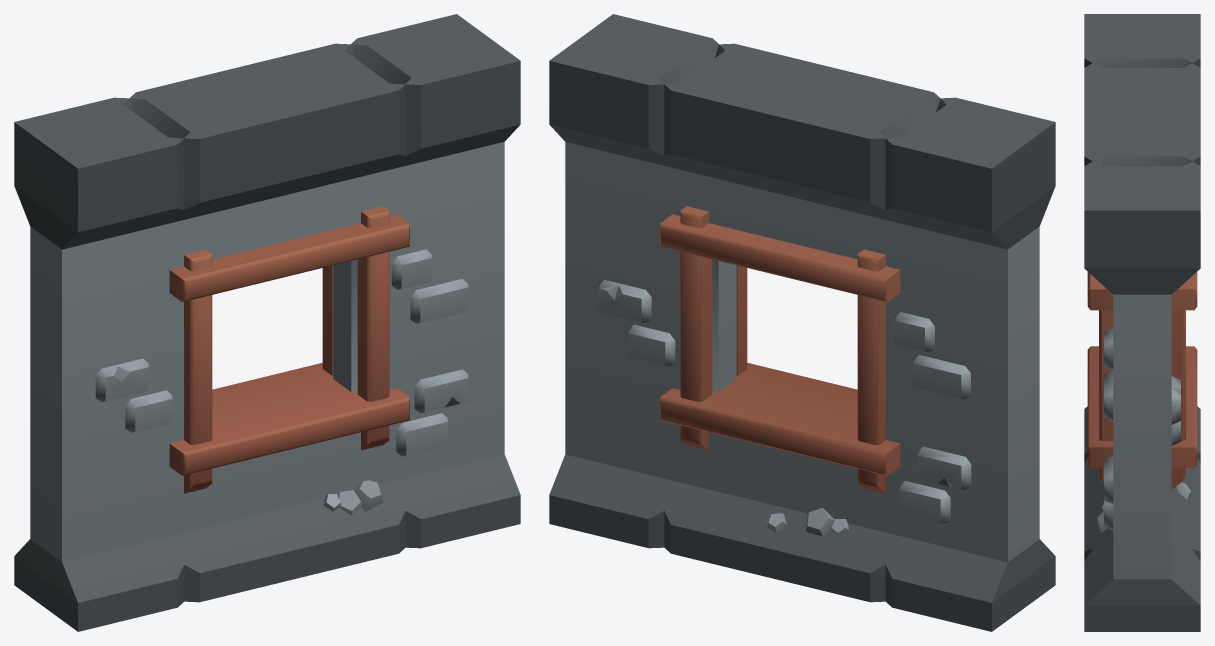
The model's file is dungeon-wall-window.glb.
3 renders of one model, left to right at view 1: azimuth 30°, elevation 25°; view 2: azimuth 150°, elevation 25°; view 3: azimuth 270°, elevation 25°, orthographic. The views are drawn at different scales.
Visible parts, largest first — view 1: dungeon-wall-window; view 2: dungeon-wall-window; view 3: dungeon-wall-window.
Part boxes in pixels (x1,y1,x2,y2): dungeon-wall-window: (14,14,520,631); dungeon-wall-window: (549,14,1055,631); dungeon-wall-window: (1084,14,1200,631).
Size of the model in its own units: 3 by 3 by 0.7501.
1 material, 1 textured.
